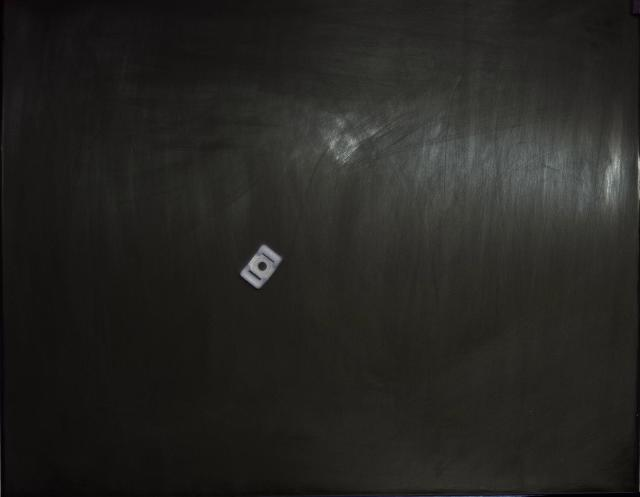first_side: (240, 245, 282, 289)
